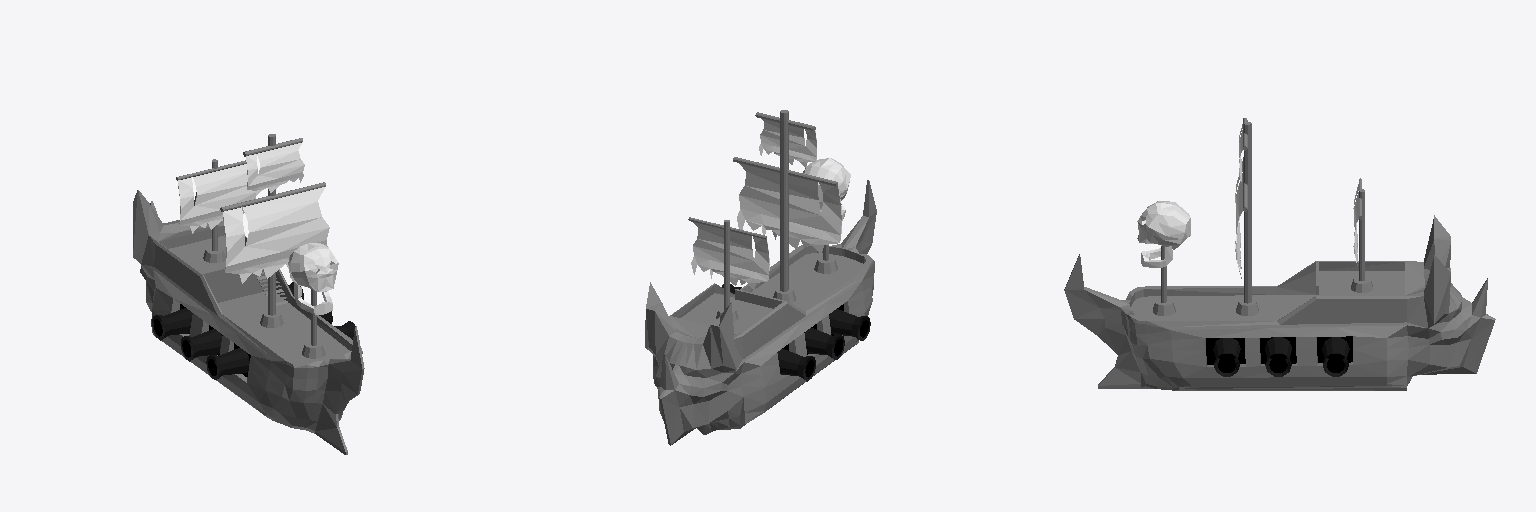
Rendered from Ship_02_Obj.obj.
3 renders of one model, left to right at view 1: azimuth 30°, elevation 25°; view 2: azimuth 150°, elevation 25°; view 3: azimuth 270°, elevation 25°, orthographic.
Visible parts, largest first — view 1: Ship_02; view 2: Ship_02; view 3: Ship_02.
Boxes of the visible parts, x1=… form: Ship_02: x1=133, y1=134, x2=364, y2=454; Ship_02: x1=645, y1=110, x2=876, y2=445; Ship_02: x1=1064, y1=118, x2=1495, y2=390.
Size of the model in its own units: 12.16 by 22.04 by 32.47.